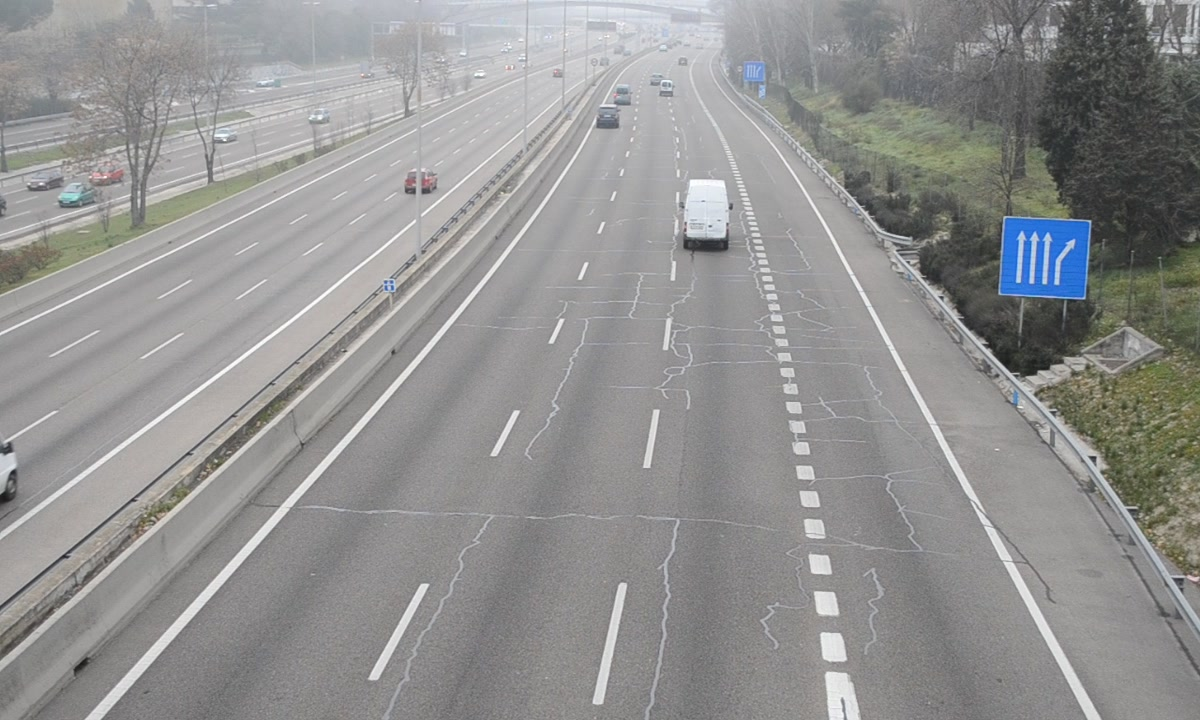car: (595, 104, 620, 130)
van: (682, 179, 732, 246)
